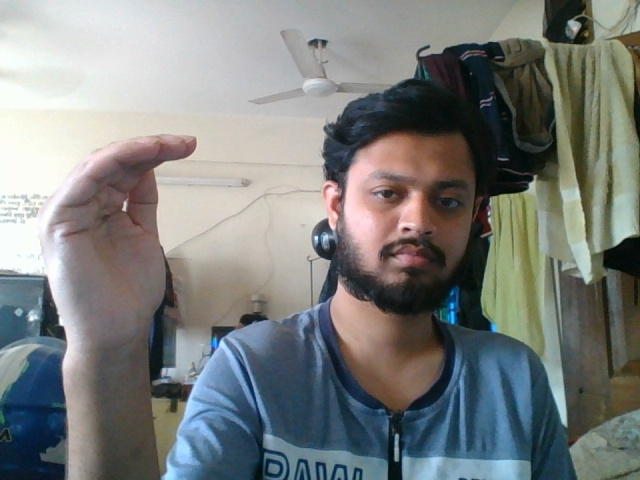ga: (34, 110, 202, 411)
